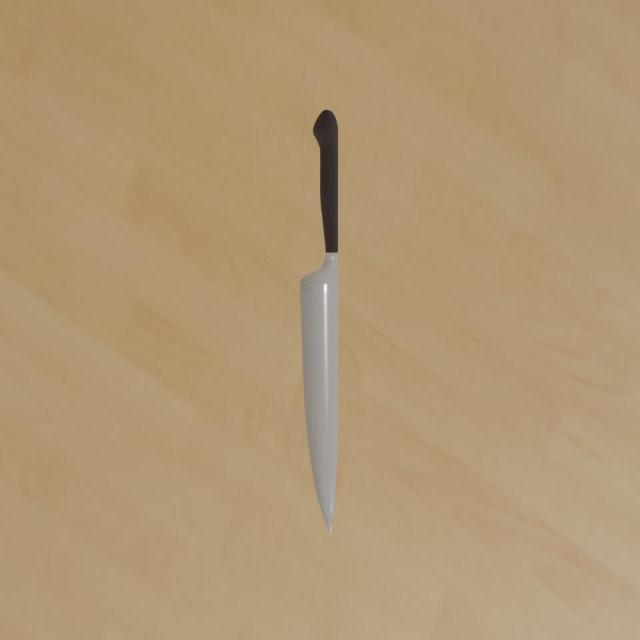knife: (313, 110, 338, 257)
